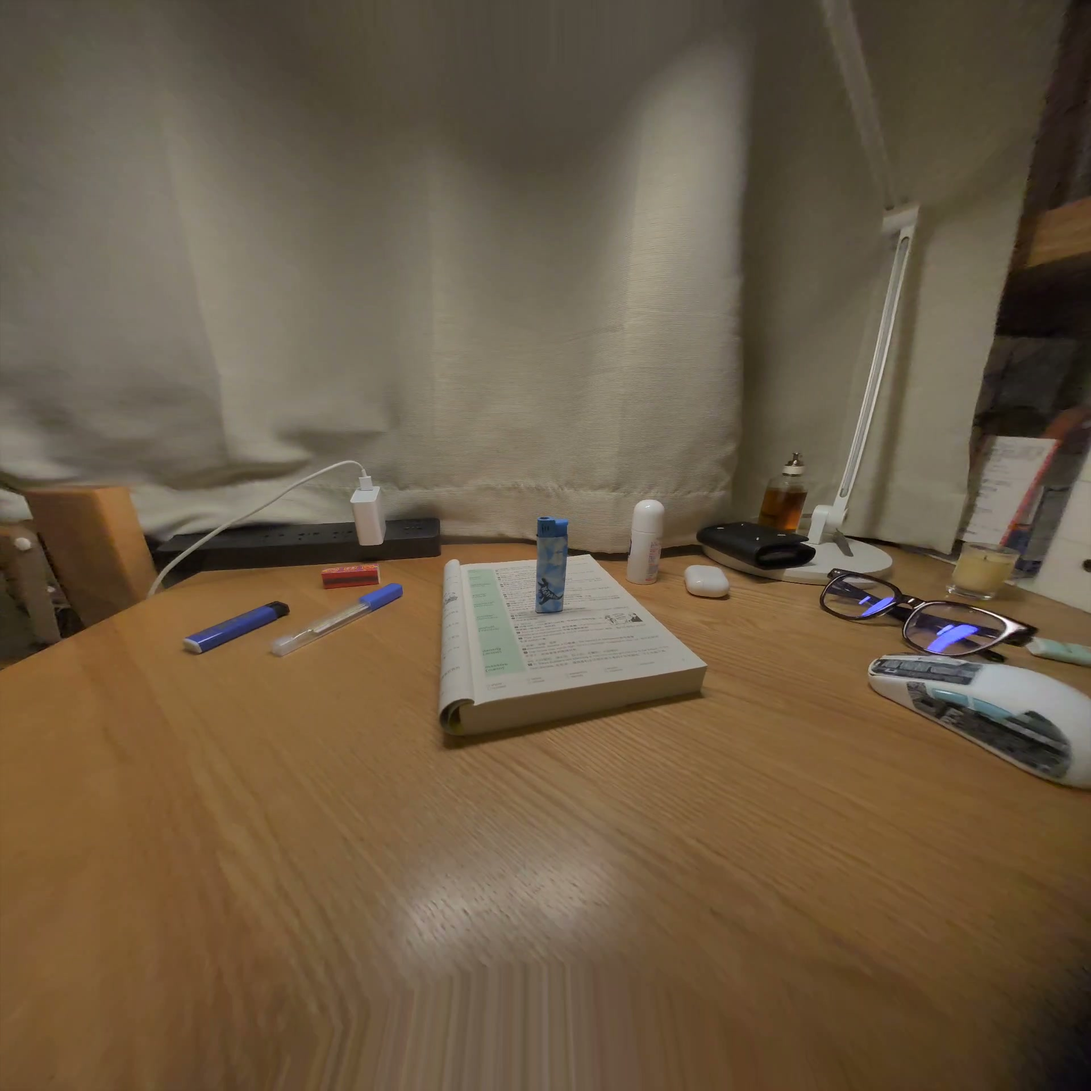lighter: (535, 517, 568, 613)
